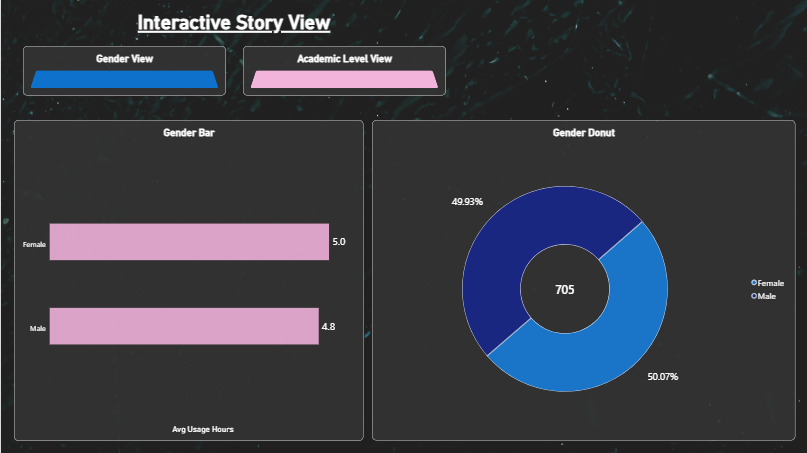

The dashboard page shown, as its layout file describes it:
{"tool":"powerbi","page":{"name":"Interactive Story View","canvas":[1920,1080],"ordinal":4},"visuals":[{"type":"textbox","title":"Interactive Story View","box":[52.5,25,1005,55],"z":0},{"type":"barChart","title":"Gender Bar","fields":{"Category":["Student_Details.Gender"],"Y":["Platform_Details.Avg Usage Hours"]},"box":[30,285,832,764.2],"z":1000},{"type":"donutChart","title":"Gender Donut","fields":{"Category":["Student_Details.Gender"],"Y":["Student_Details.Total Students"]},"box":[884.4,284.9,1007.7,763.2],"z":2000},{"type":"textbox","box":[86.6,124.2,301.2,124.2],"z":5000},{"type":"actionButton","title":"Gender View","box":[52.5,110,482.5,117.5],"z":6000},{"type":"actionButton","title":"Academic Level View","box":[575,110,482.5,117.5],"z":7000}]}

Visuals, with their boxes in screenshot pixels (x1, y1, x2, y2), scaled from the page's 1920x1080 canvas onto the 807x453 screenshot:
"Interactive Story View" textbox: <region>22, 10, 444, 34</region>
"Gender Bar" barChart: <region>13, 120, 362, 440</region>
"Gender Donut" donutChart: <region>372, 119, 795, 440</region>
textbox: <region>36, 52, 163, 104</region>
"Gender View" actionButton: <region>22, 46, 225, 95</region>
"Academic Level View" actionButton: <region>242, 46, 444, 95</region>
